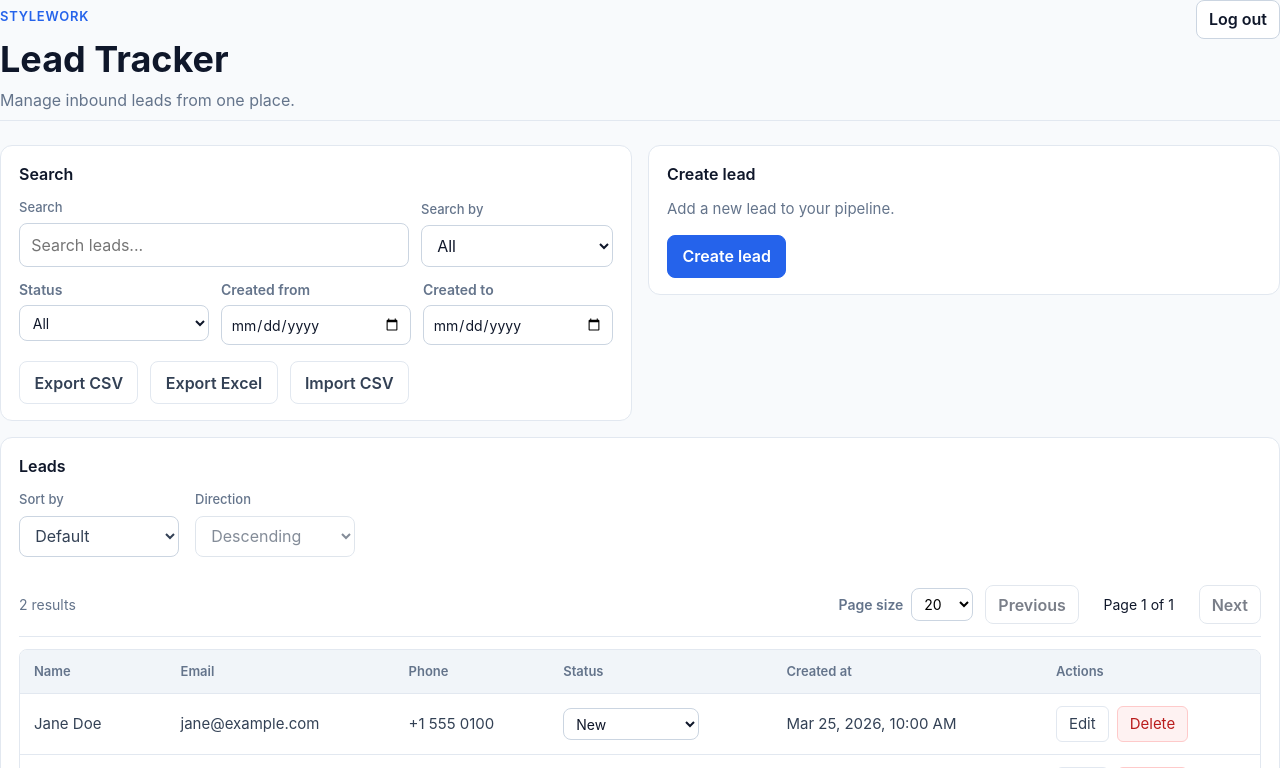
Test: LeadTrackerPage › create lead › shows validation errors on empty submission
Expected: the text "Jane Doe" is shown, x1=20 y1=694 x2=166 y2=755
Click the button "Create lead".
click(727, 256)  # box x1=667 y1=235 x2=786 y2=278
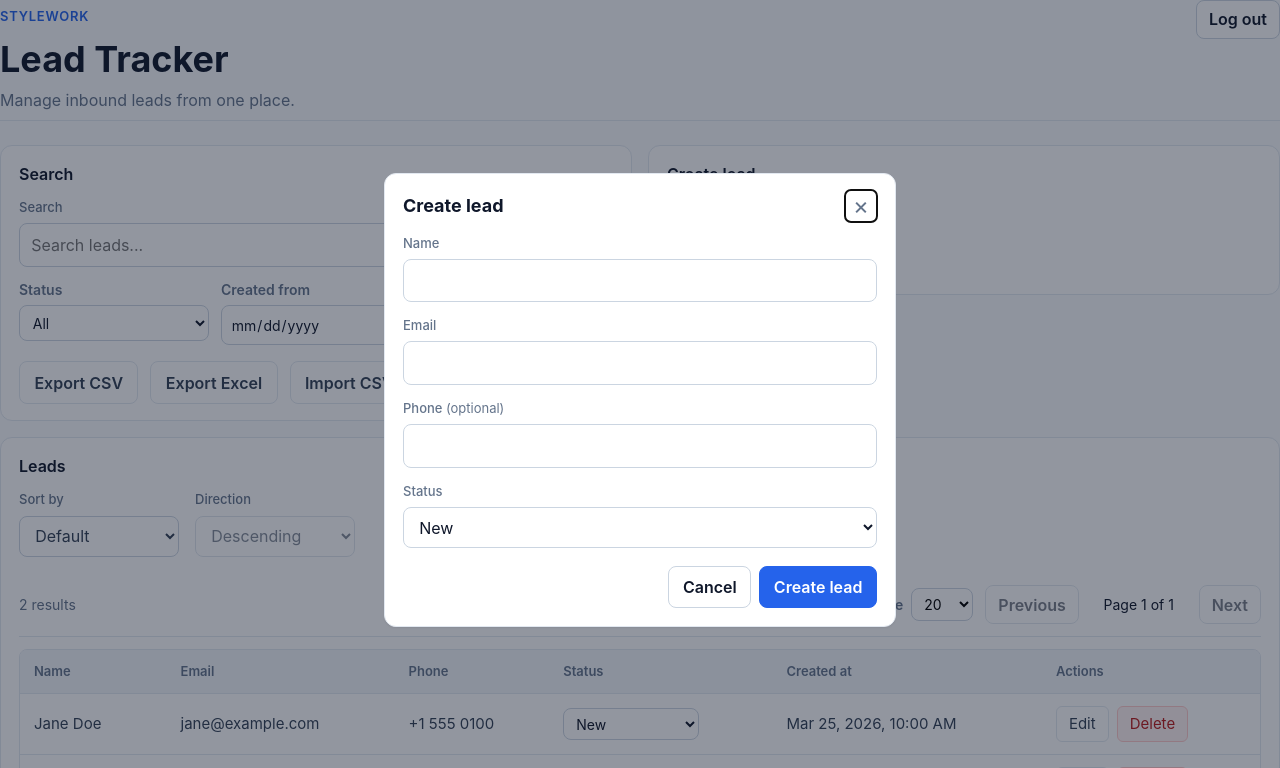
Click the button "Create lead".
click(818, 587)  # box x1=759 y1=566 x2=877 y2=608
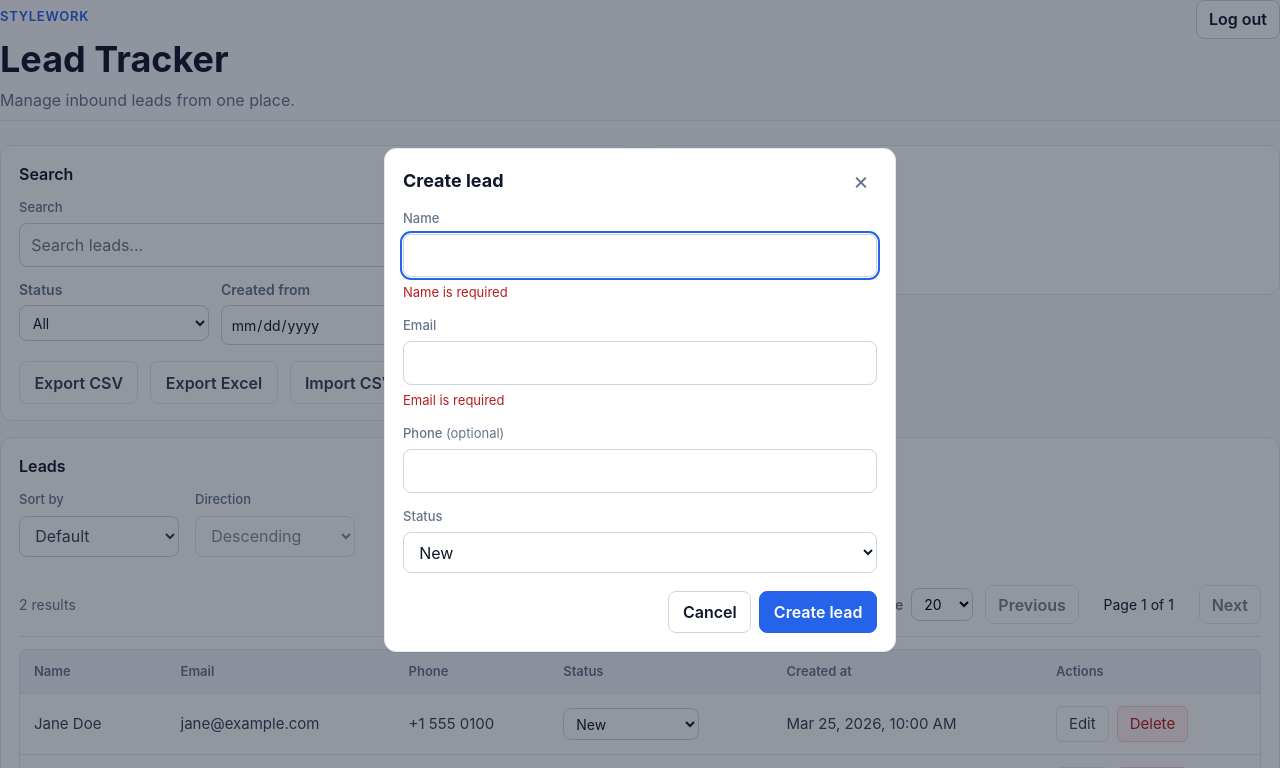
Now the text "Name is required" is shown, box x1=403 y1=284 x2=508 y2=300
Now the text "Email is required" is shown, box x1=403 y1=392 x2=504 y2=408
